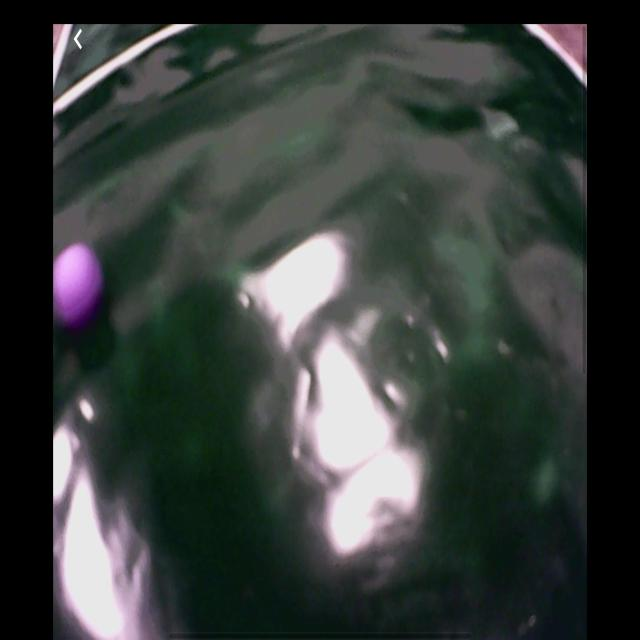ball: (53, 241, 105, 331)
